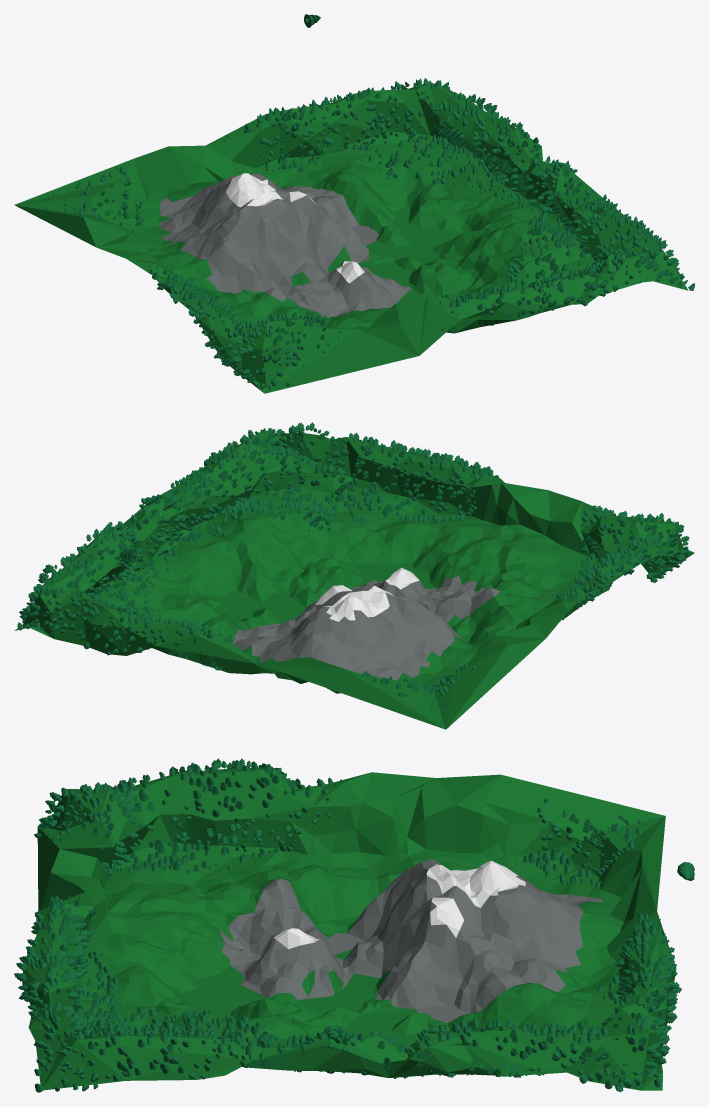
The model's file is Mountains.fbx.
3 renders of one model, top to bottom at view 1: azimuth 30°, elevation 25°; view 2: azimuth 150°, elevation 25°; view 3: azimuth 270°, elevation 25°, orthographic. The views are drawn at different scales.
Visible parts, largest first — view 1: Landscape; view 2: Landscape; view 3: Landscape.
Part boxes in pixels (<box>): Landscape: <box>14,83,688,393</box>; Landscape: <box>14,430,694,729</box>; Landscape: <box>22,768,676,1090</box>.
Size of what is drawn, in the model's own units: 212 by 63.21 by 218.
